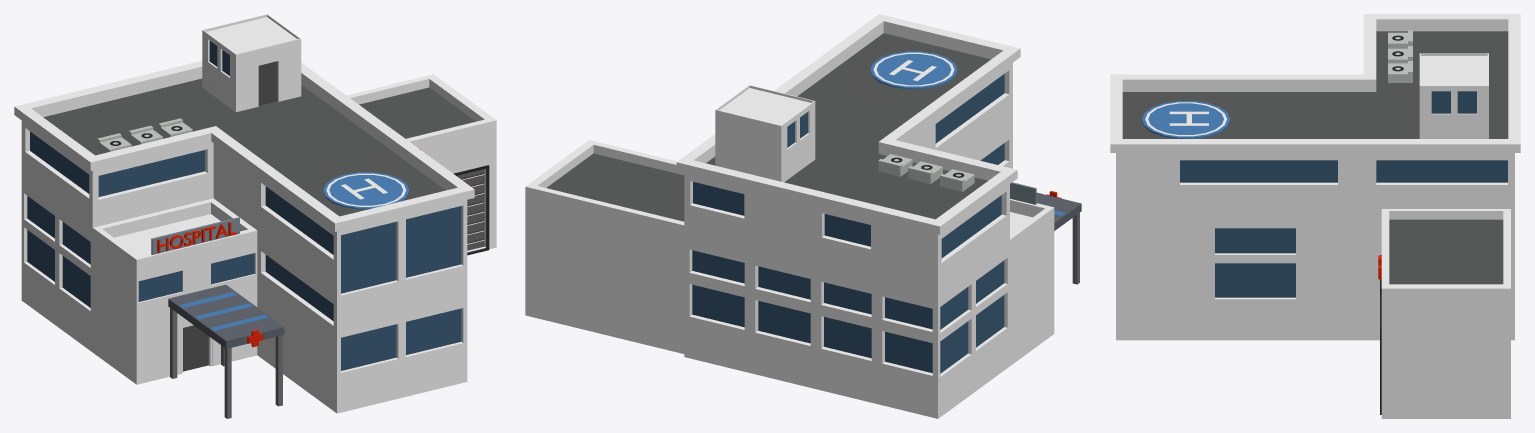
The model's file is Main Hospital_1.fbx.
3 renders of one model, left to right at view 1: azimuth 30°, elevation 25°; view 2: azimuth 150°, elevation 25°; view 3: azimuth 270°, elevation 25°, orthographic. The views are drawn at different scales.
Visible parts, largest first — view 1: Main Hospital_1; view 2: Main Hospital_1; view 3: Main Hospital_1.
Part boxes in pixels (<box>): Main Hospital_1: <box>14,14,496,418</box>; Main Hospital_1: <box>525,14,1081,418</box>; Main Hospital_1: <box>1110,14,1520,418</box>.
Bounding box in the file's own units: 2189 × 1207 × 1830.
